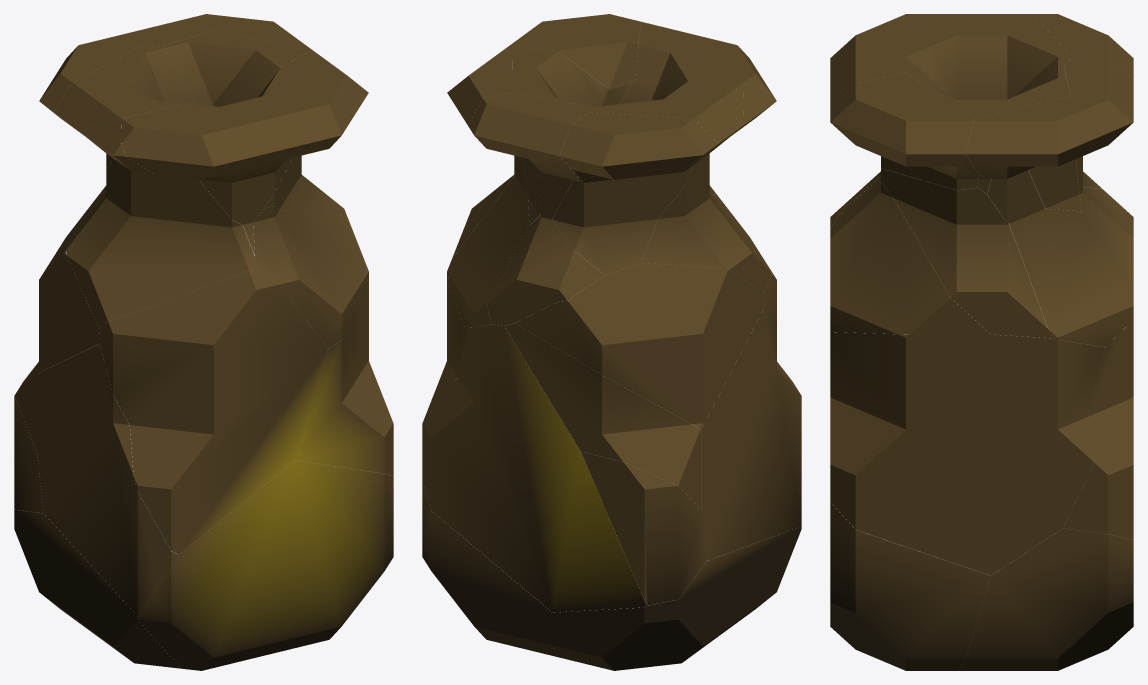
The model's file is Vase.fbx.
The picture shows the model from 3 angles, left to right: view 1: azimuth 30°, elevation 25°; view 2: azimuth 150°, elevation 25°; view 3: azimuth 270°, elevation 25°; orthographic projection. The views are drawn at different scales.
Parts seen in each view (by area): view 1: Map_vase.mc_cell.001, Map_vase.mc_cell.012, Map_vase.mc_cell.008, Map_vase.mc_cell.014, Map_vase.mc_cell.016, Map_vase.mc_cell.009, Map_vase.mc_cell.017, Map_vase.mc_cell.003, Map_vase.mc_cell.010, Map_vase.mc_cell.013, Map_vase.mc_cell.006, Map_vase.mc_cell.018 (+6 smaller); view 2: Map_vase.mc_cell, Map_vase.mc_cell.018, Map_vase.mc_cell.008, Map_vase.mc_cell.003, Map_vase.mc_cell.010, Map_vase.mc_cell.004, Map_vase.mc_cell.005, Map_vase.mc_cell.007, Map_vase.mc_cell.002, Map_vase.mc_cell.019, Map_vase.mc_cell.014, Map_vase.mc_cell.020 (+7 smaller); view 3: Map_vase.mc_cell.017, Map_vase.mc_cell.002, Map_vase.mc_cell.019, Map_vase.mc_cell.012, Map_vase.mc_cell.009, Map_vase.mc_cell.015, Map_vase.mc_cell.006, Map_vase.mc_cell.010, Map_vase.mc_cell, Map_vase.mc_cell.005, Map_vase.mc_cell.016, Map_vase.mc_cell.013 (+1 smaller).
Part boxes in pixels (<box>): Map_vase.mc_cell.001: <box>99,269,327,554</box>; Map_vase.mc_cell.012: <box>137,460,393,670</box>; Map_vase.mc_cell.008: <box>37,344,178,614</box>; Map_vase.mc_cell.014: <box>66,119,256,327</box>; Map_vase.mc_cell.016: <box>121,99,320,254</box>; Map_vase.mc_cell.009: <box>253,206,366,348</box>; Map_vase.mc_cell.017: <box>295,267,393,476</box>; Map_vase.mc_cell.003: <box>14,509,180,668</box>; Map_vase.mc_cell.010: <box>54,46,195,203</box>; Map_vase.mc_cell.013: <box>162,29,308,106</box>; Map_vase.mc_cell.006: <box>252,51,368,192</box>; Map_vase.mc_cell.018: <box>36,193,101,373</box>; Map_vase.mc_cell: <box>422,324,647,612</box>; Map_vase.mc_cell.018: <box>515,263,763,429</box>; Map_vase.mc_cell.008: <box>701,309,801,560</box>; Map_vase.mc_cell.003: <box>552,526,801,670</box>; Map_vase.mc_cell.010: <box>552,67,743,274</box>; Map_vase.mc_cell.004: <box>504,323,701,509</box>; Map_vase.mc_cell.005: <box>467,92,588,325</box>; Map_vase.mc_cell.007: <box>581,452,707,605</box>; Map_vase.mc_cell.002: <box>447,46,529,327</box>; Map_vase.mc_cell.019: <box>422,481,557,656</box>; Map_vase.mc_cell.014: <box>641,83,776,294</box>; Map_vase.mc_cell.020: <box>559,112,717,180</box>; Map_vase.mc_cell.017: <box>830,332,1104,575</box>; Map_vase.mc_cell.002: <box>965,95,1133,346</box>; Map_vase.mc_cell.019: <box>959,528,1133,670</box>; Map_vase.mc_cell.012: <box>830,502,990,670</box>; Map_vase.mc_cell.009: <box>830,182,990,334</box>; Map_vase.mc_cell.015: <box>881,168,1054,338</box>; Map_vase.mc_cell.006: <box>830,73,978,190</box>; Map_vase.mc_cell.010: <box>931,14,1101,188</box>; Map_vase.mc_cell: <box>1063,320,1133,539</box>; Map_vase.mc_cell.005: <box>1064,56,1133,284</box>; Map_vase.mc_cell.016: <box>830,14,931,198</box>; Map_vase.mc_cell.013: <box>959,66,1081,211</box>.
Size of the model in its own units: 600 by 1200 by 600.
